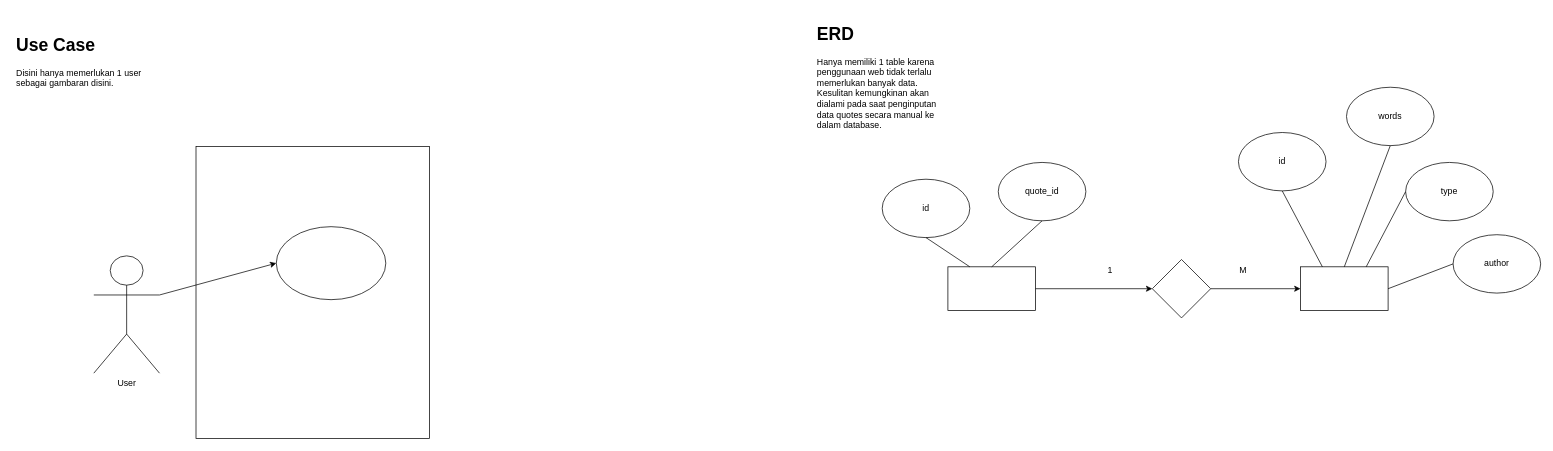
Some shapes in this 1553 by 451 pixel diagram are drawn without their labels. Each missing label, with the box of its shape:
generate_quotes: (947, 266, 1036, 311)
Press Button Get Quotes: (276, 226, 386, 300)
quotes: (1300, 266, 1388, 311)
